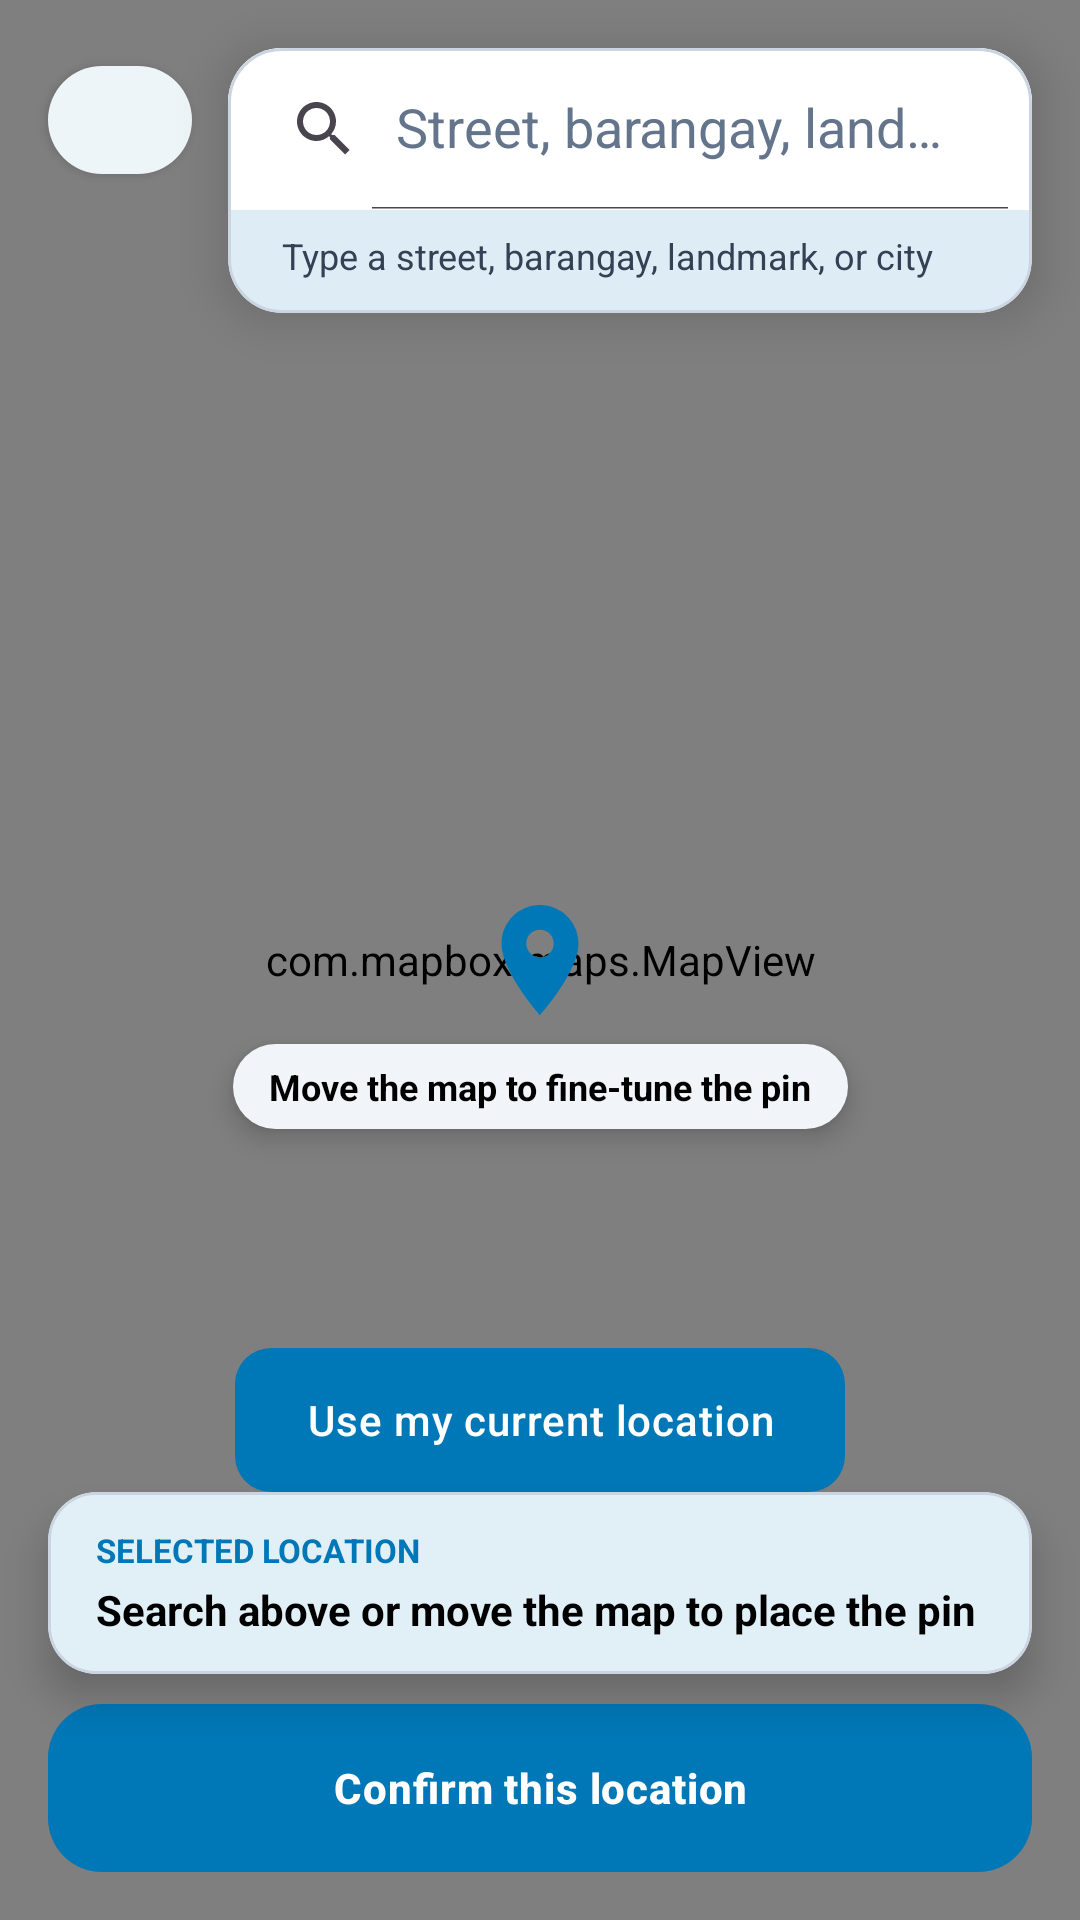

Where to tap for icons on this 1080×1920 app screen, as [x,y]:
Selected map location: [540,960]
